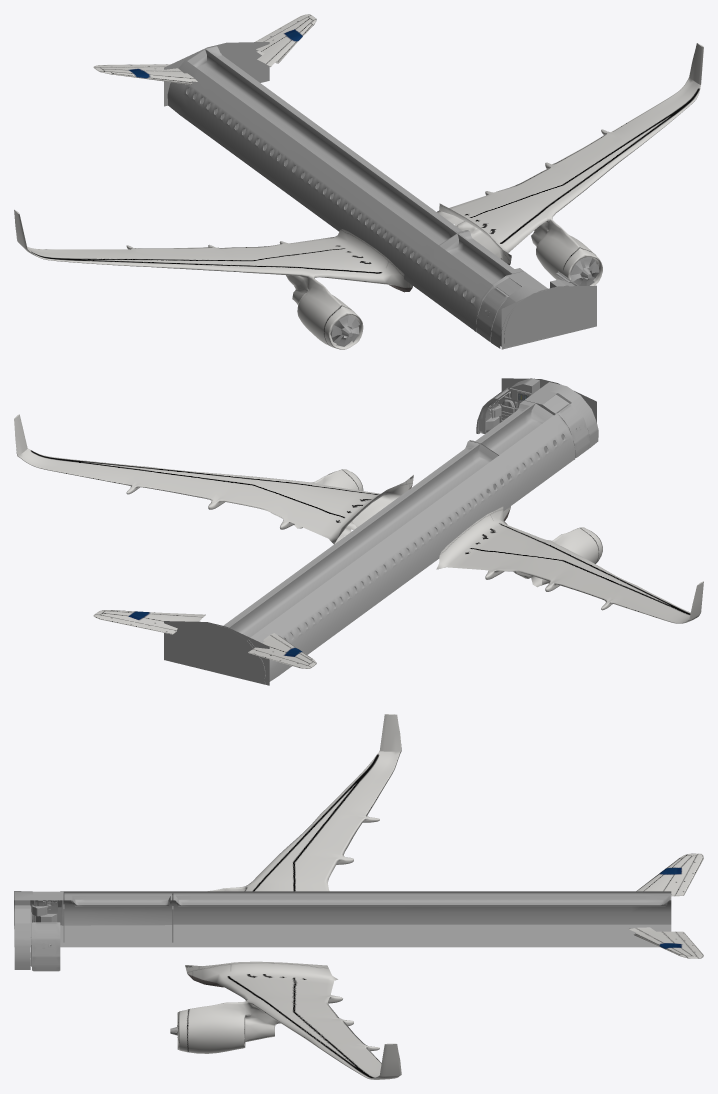
Rendered from Cabina_pasajeros.fbx.
3 views of the same model, one above another, from view 1: azimuth 30°, elevation 25°; view 2: azimuth 150°, elevation 25°; view 3: azimuth 270°, elevation 25° (orthographic).
Visible parts, largest first — view 1: Cabina_pasajeros_Cabina_pasajeros, ala, pared_frontal, Paredtrasera, aspas1, cristales_cristales, polySurface236; view 2: Cabina_pasajeros_Cabina_pasajeros, ala, Paredtrasera, polySurface236 (×2), cristales_cristales, Estacion; view 3: Cabina_pasajeros_Cabina_pasajeros, ala, polySurface236, Estacion.
Boxes of the visible parts, x1,y1,x2,y2 form: Cabina_pasajeros_Cabina_pasajeros: (167,46,547,348); ala: (14,14,703,349); pared_frontal: (501,285,596,349); Paredtrasera: (164,42,269,106); aspas1: (330,257,599,346); cristales_cristales: (186,87,486,311); polySurface236: (476,287,507,341); Cabina_pasajeros_Cabina_pasajeros: (217,382,598,684); ala: (14,414,703,668); Paredtrasera: (164,621,269,685); polySurface236 (×2): (476,388,589,457); cristales_cristales: (283,428,576,639); Estacion: (498,378,539,416); Cabina_pasajeros_Cabina_pasajeros: (14,891,671,947); ala: (177,714,703,1079); polySurface236: (32,922,60,971); Estacion: (14,905,31,969).
Size of the model in its own units: 4001 by 650 by 3532.
30 materials, 3 textured.
